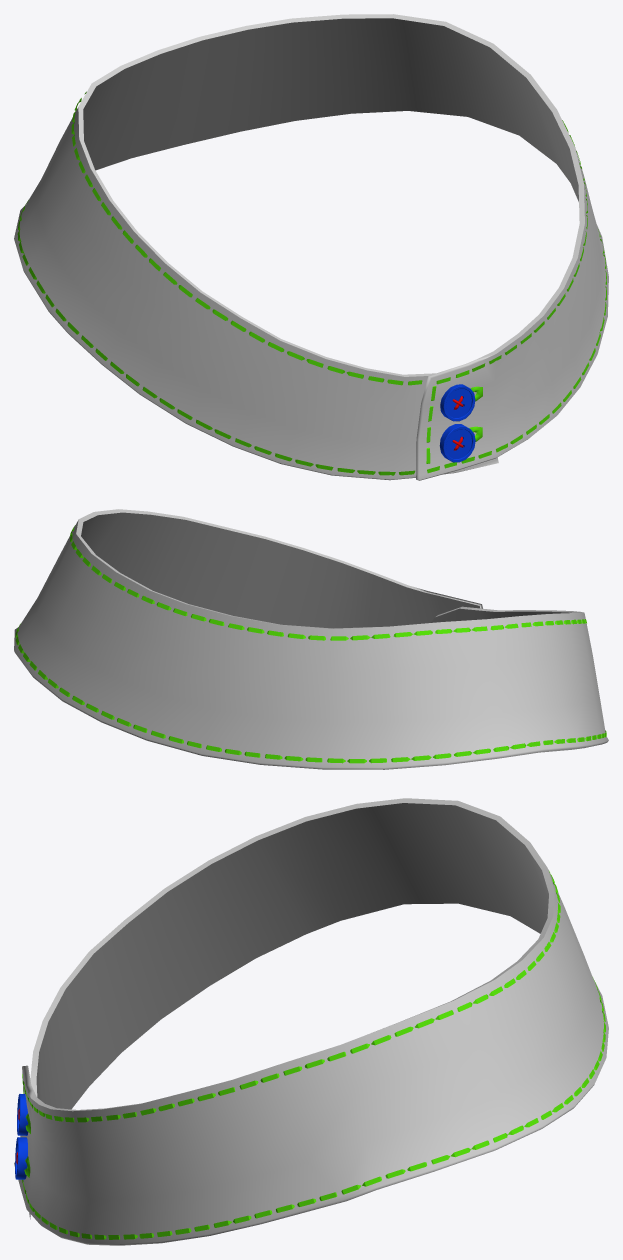
File: xiajiling.fbx
3 renders of one model, top to bottom at view 1: azimuth 30°, elevation 25°; view 2: azimuth 150°, elevation 25°; view 3: azimuth 270°, elevation 25°, orthographic. The views are drawn at different scales.
Parts seen in each view (by area): view 1: xiajilingfangzui2likou; view 2: xiajilingfangzui2likou; view 3: xiajilingfangzui2likou.
Boxes of the visible parts, x1,y1,x2,y2 form: xiajilingfangzui2likou: (14,14,608,480); xiajilingfangzui2likou: (14,509,608,769); xiajilingfangzui2likou: (14,798,608,1245).
Bounding box in the file's own units: 16.42 × 8.02 × 14.43.
